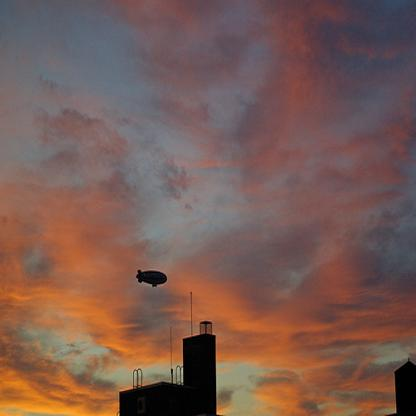Airship: (134, 269, 170, 288)
